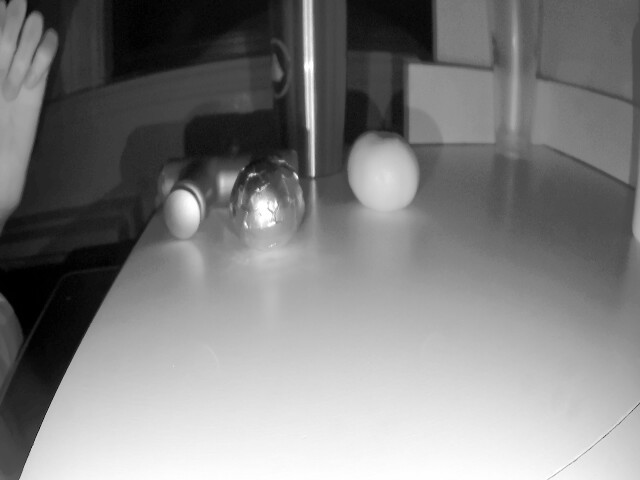black: (227, 152, 305, 261)
